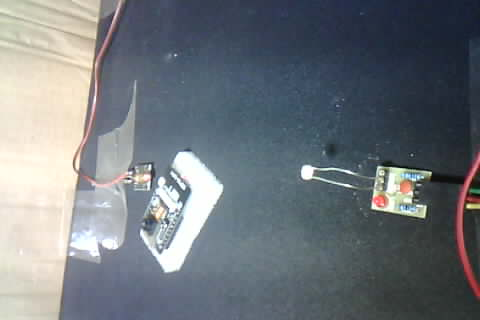esp32: (132, 159, 211, 267)
